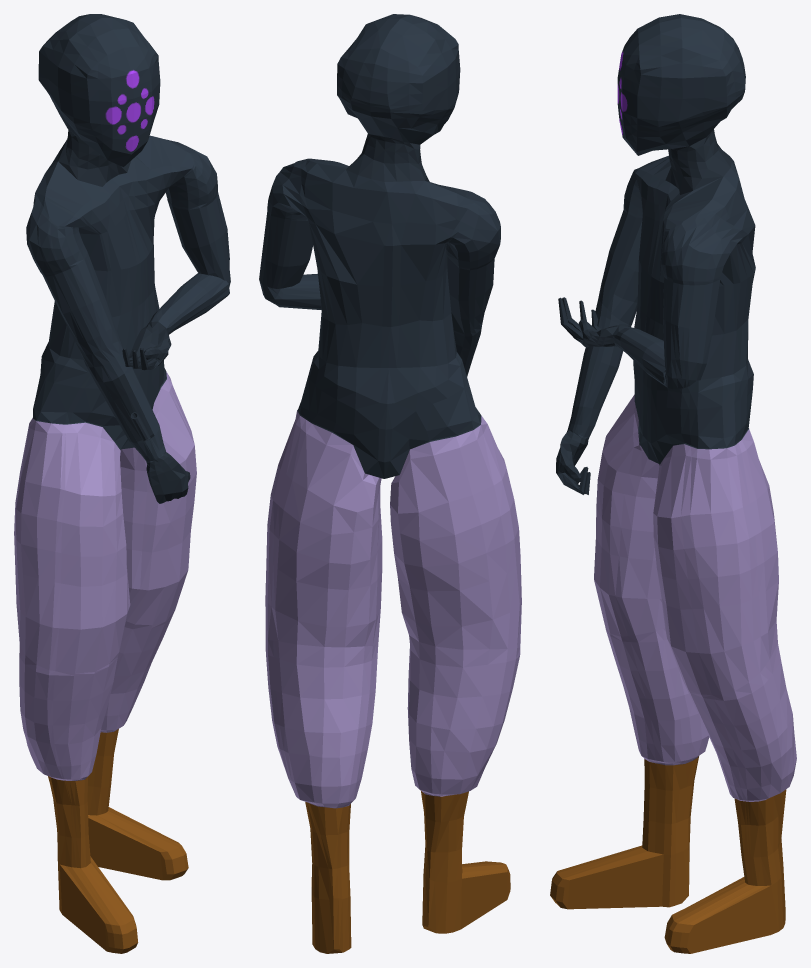
The model's file is Oracle_Reload_000020.obj.
3 views of the same model, side by side, from view 1: azimuth 30°, elevation 25°; view 2: azimuth 150°, elevation 25°; view 3: azimuth 270°, elevation 25° (orthographic). The views are drawn at different scales.
Visible parts, largest first — view 1: Cube; view 2: Cube; view 3: Cube.
Boxes of the visible parts, x1,y1,x2,y2 form: Cube: (14,14,230,953); Cube: (259,14,521,953); Cube: (550,14,796,953).
Size of the model in its own units: 1.05 by 3.94 by 0.9762.
